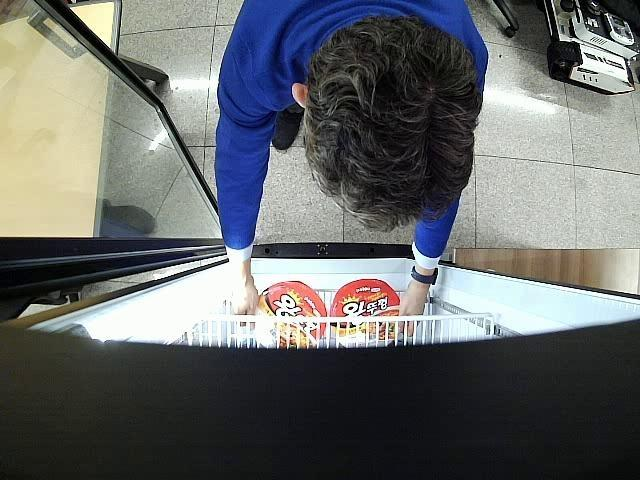10_wangTtukkeong: (330, 278, 401, 346), (256, 281, 326, 348)
